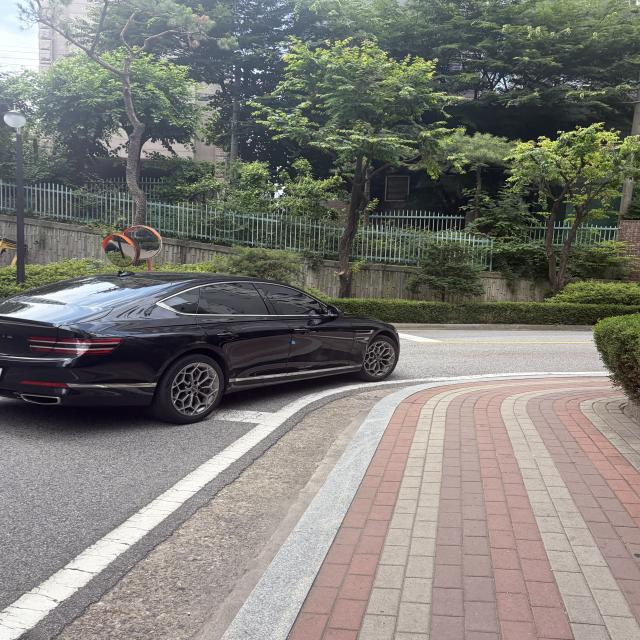car: (0, 248, 433, 440)
